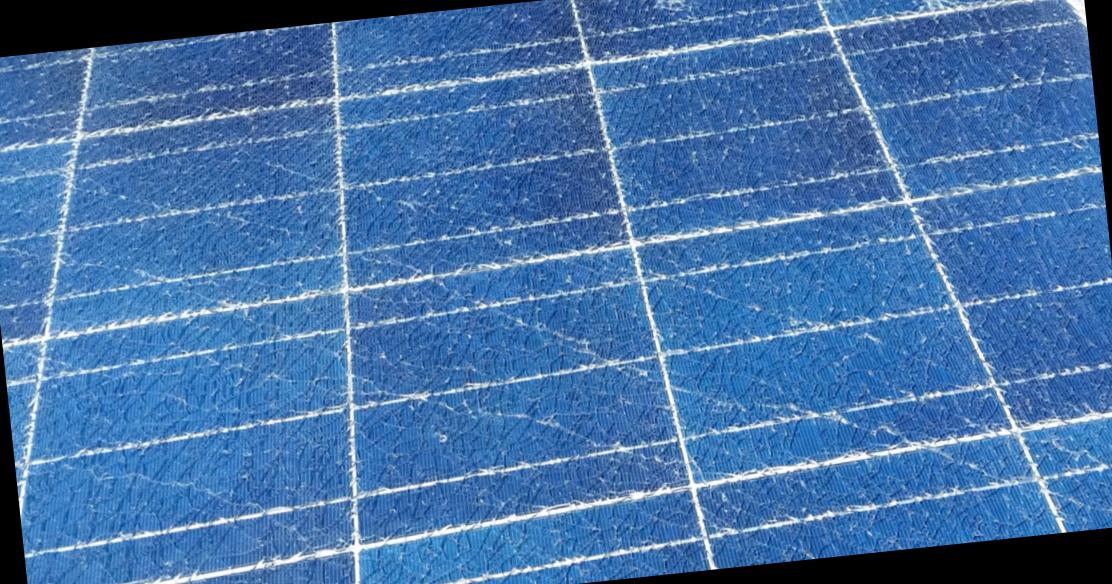Crack: (0, 0, 1095, 583), (898, 0, 972, 35), (637, 0, 717, 30)
